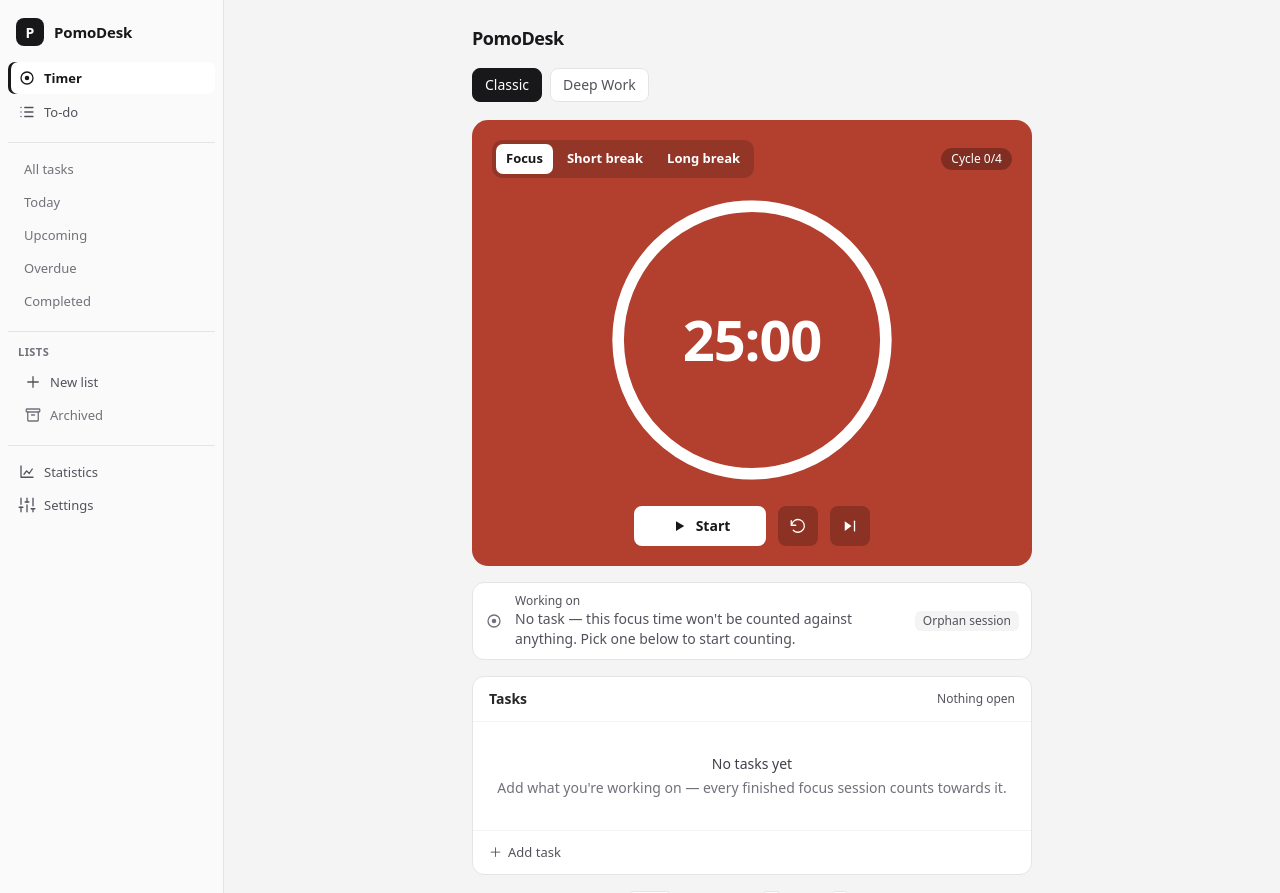
Scenario: App › starts the timer through the core instead of counting down locally
Click the button "Start".
click(700, 526)  # box [634,506,766,546]
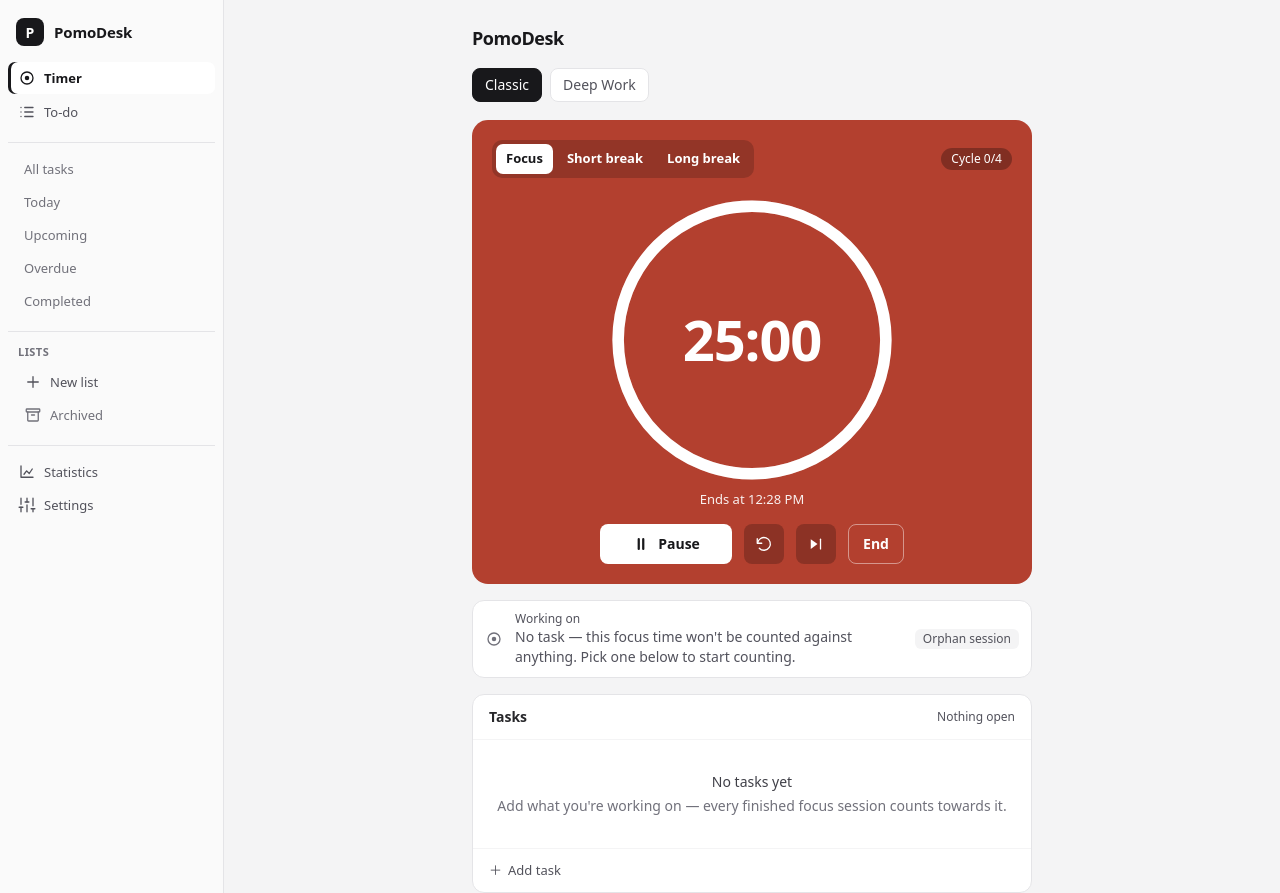
Expected: the button "Pause" is shown, [600,524,732,564]
